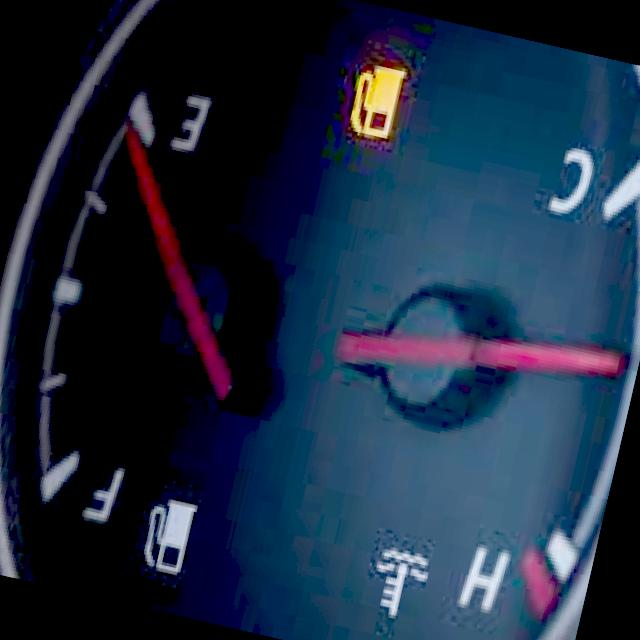kontrolka: (322, 39, 432, 165)
